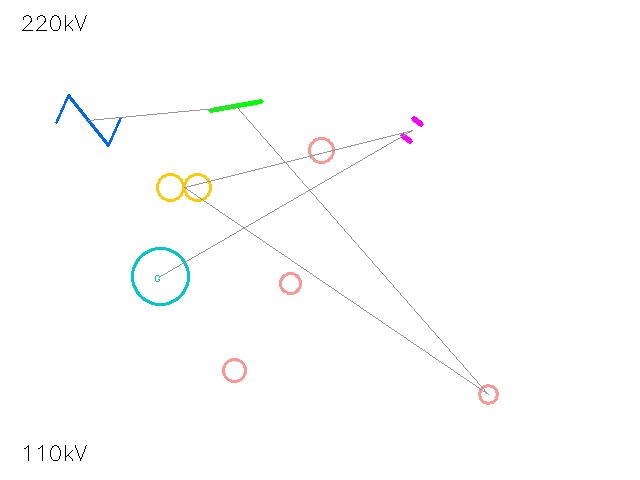busbar: (204, 74, 268, 138)
capacitor: (395, 113, 429, 147)
circuit_breaker: (57, 89, 119, 151)
fuse: (296, 125, 346, 175)
generator: (132, 248, 188, 304)
reactor: (270, 263, 310, 303)
transformer_2w: (151, 154, 217, 220)
voltage_transformer: (211, 347, 257, 393), (470, 376, 506, 412)
